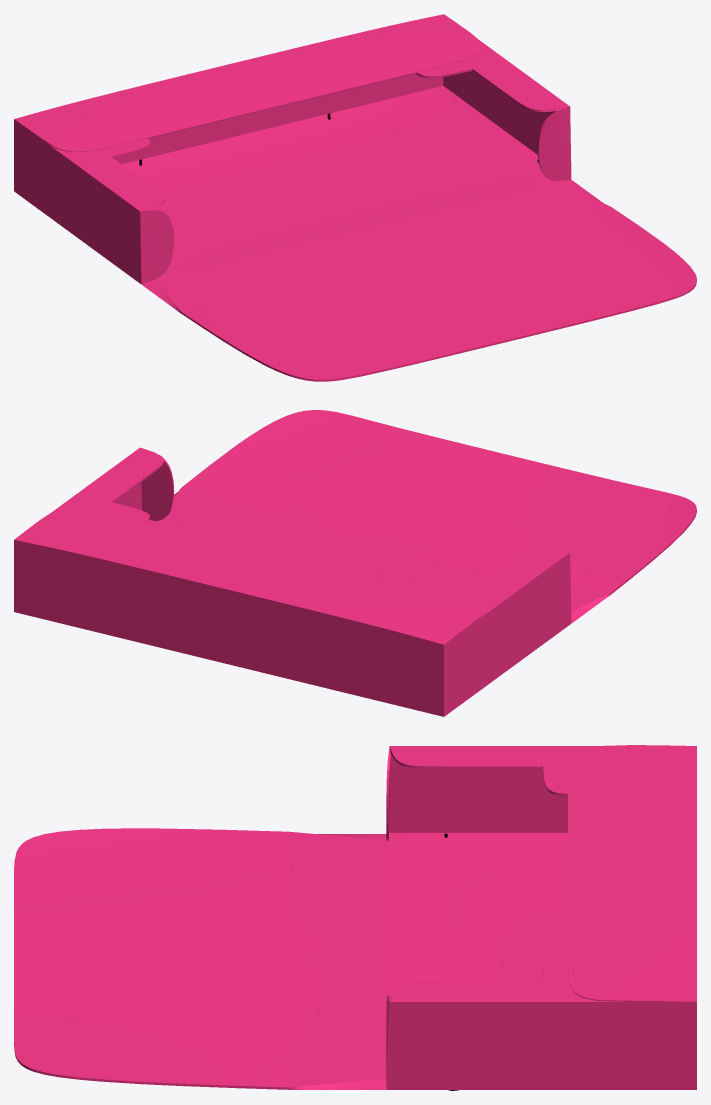
Rendered from 261_ペンケース開.glb.
3 views of the same model, one above another, from view 1: azimuth 30°, elevation 25°; view 2: azimuth 150°, elevation 25°; view 3: azimuth 270°, elevation 25° (orthographic). The views are drawn at different scales.
Visible parts, largest first — view 1: Body.001; view 2: Body.001; view 3: Body.001.
Part boxes in pixels (bbox=[...]): Body.001: bbox=[14, 14, 696, 381]; Body.001: bbox=[14, 410, 696, 716]; Body.001: bbox=[14, 745, 696, 1090].
Bounding box in the file's own units: 0.187 × 0.0355 × 0.211.
